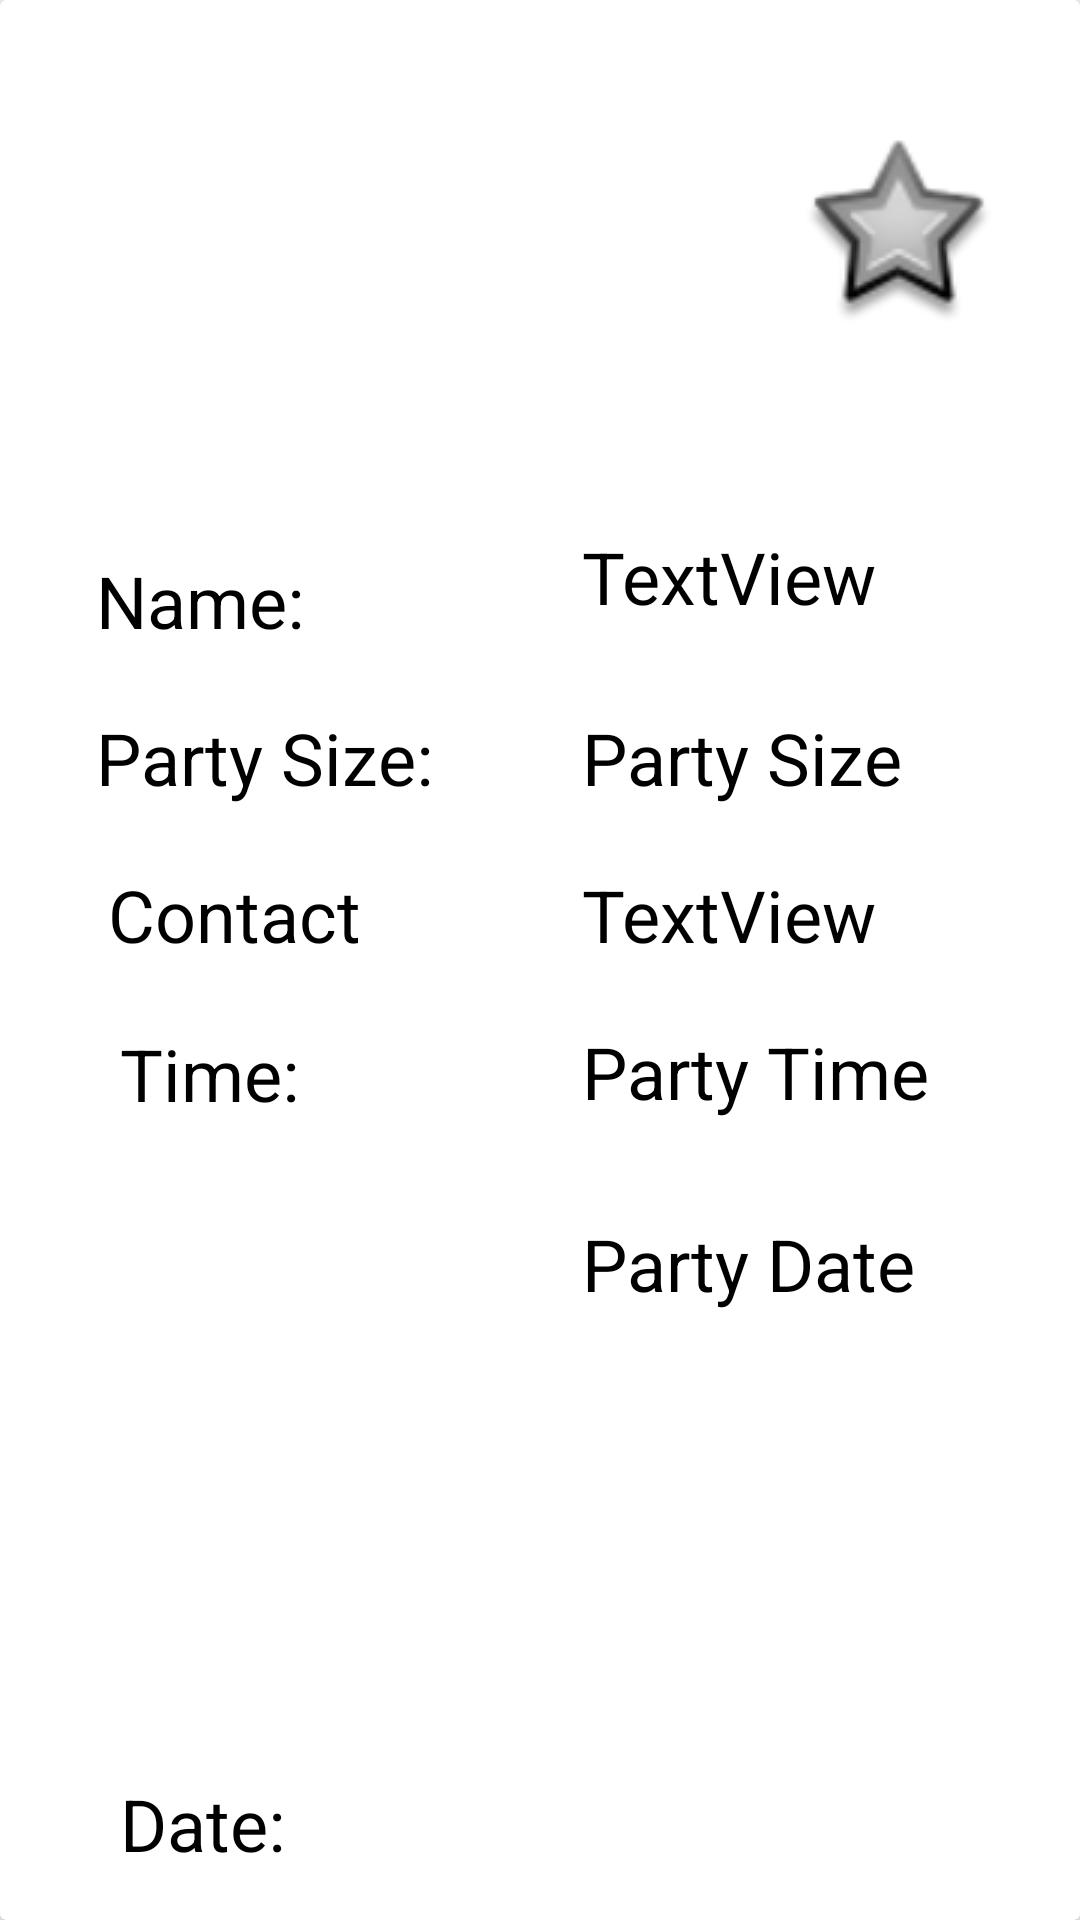

Icons on this 1080 x 1920 Android screen, each with its box as [x1,y1,x2,y2]:
star off: [814,140,984,315]
